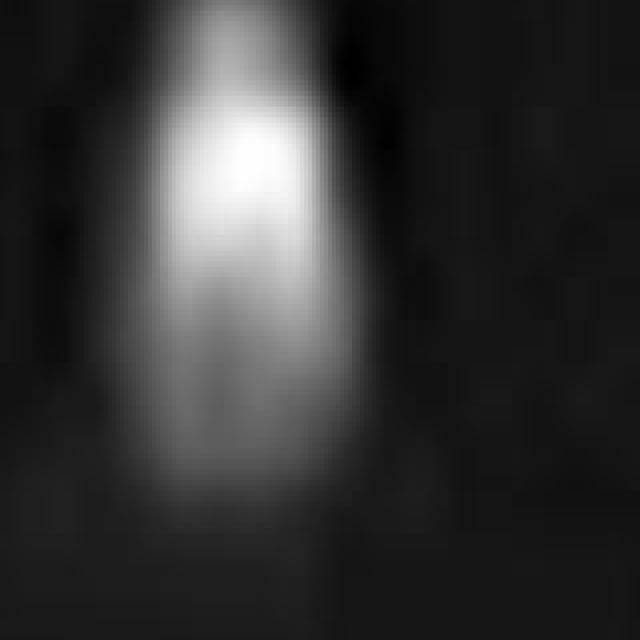person: (117, 1, 365, 502)
